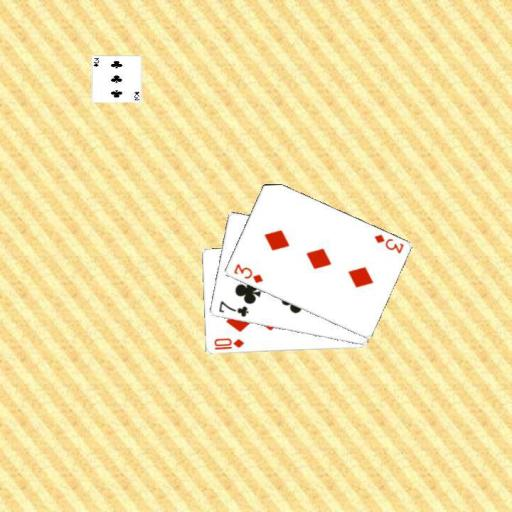10D: (211, 336, 245, 351)
3D: (231, 261, 265, 285), (371, 231, 405, 255)
7C: (216, 298, 250, 319)
